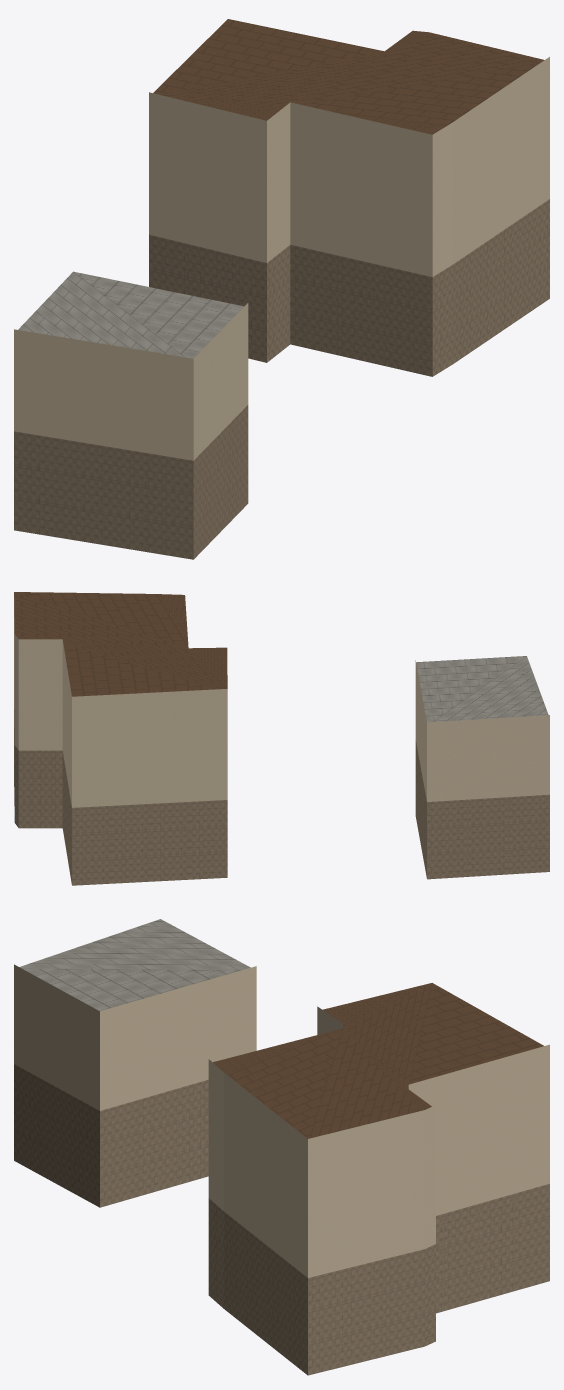
The model's file is bld_c-3_18_534.gltf.
The picture shows the model from 3 angles, top to bottom: view 1: azimuth 30°, elevation 25°; view 2: azimuth 150°, elevation 25°; view 3: azimuth 270°, elevation 25°; orthographic projection. The views are drawn at different scales.
Parts seen in each view (by area): view 1: bld_c-3_18_534; view 2: bld_c-3_18_534; view 3: bld_c-3_18_534.
Part boxes in pixels (x1,y1,x2,y2): bld_c-3_18_534: (14,19,549,559); bld_c-3_18_534: (14,592,549,885); bld_c-3_18_534: (14,919,549,1375).
Size of the model in its own units: 32.71 by 13.78 by 25.42.
5 materials, 5 textured.
